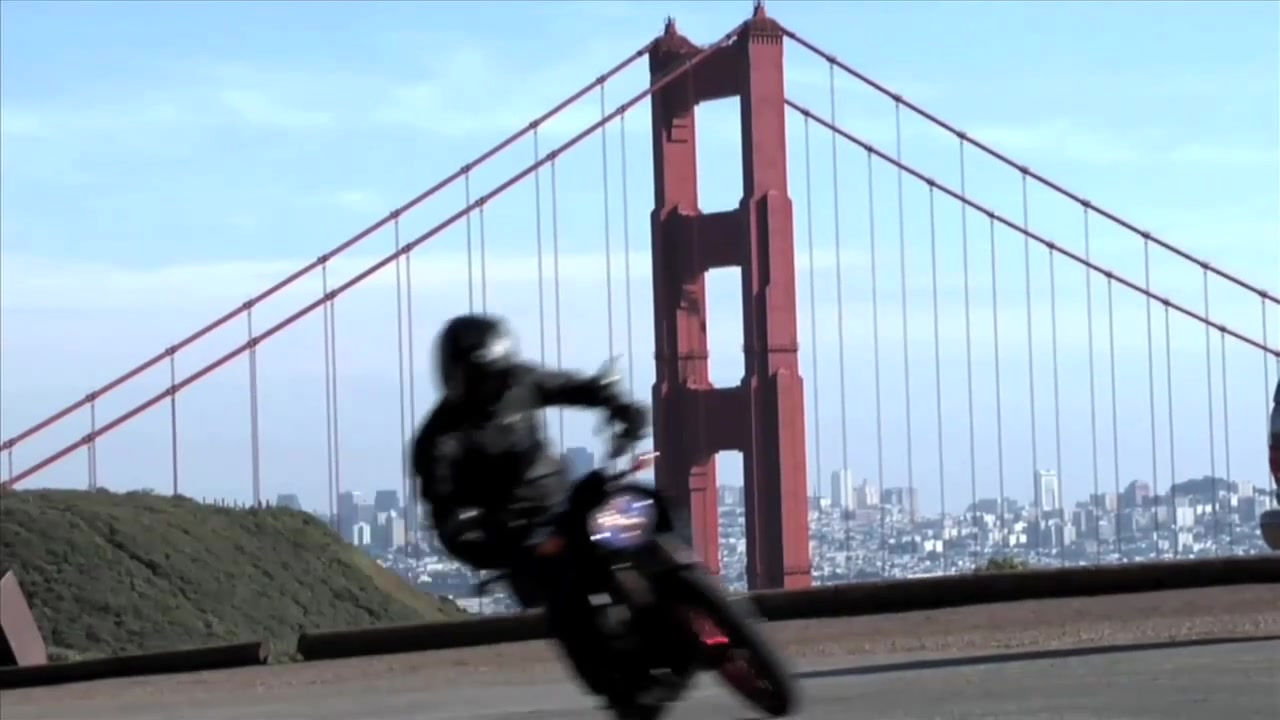motorbike: (464, 447, 805, 716)
